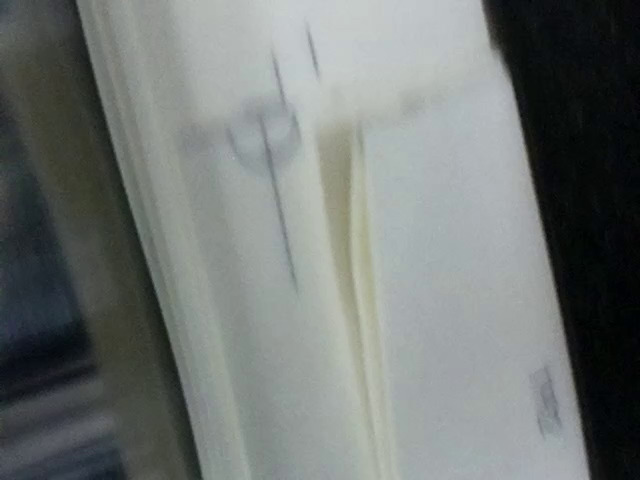not_sure: (176, 50, 303, 172)
